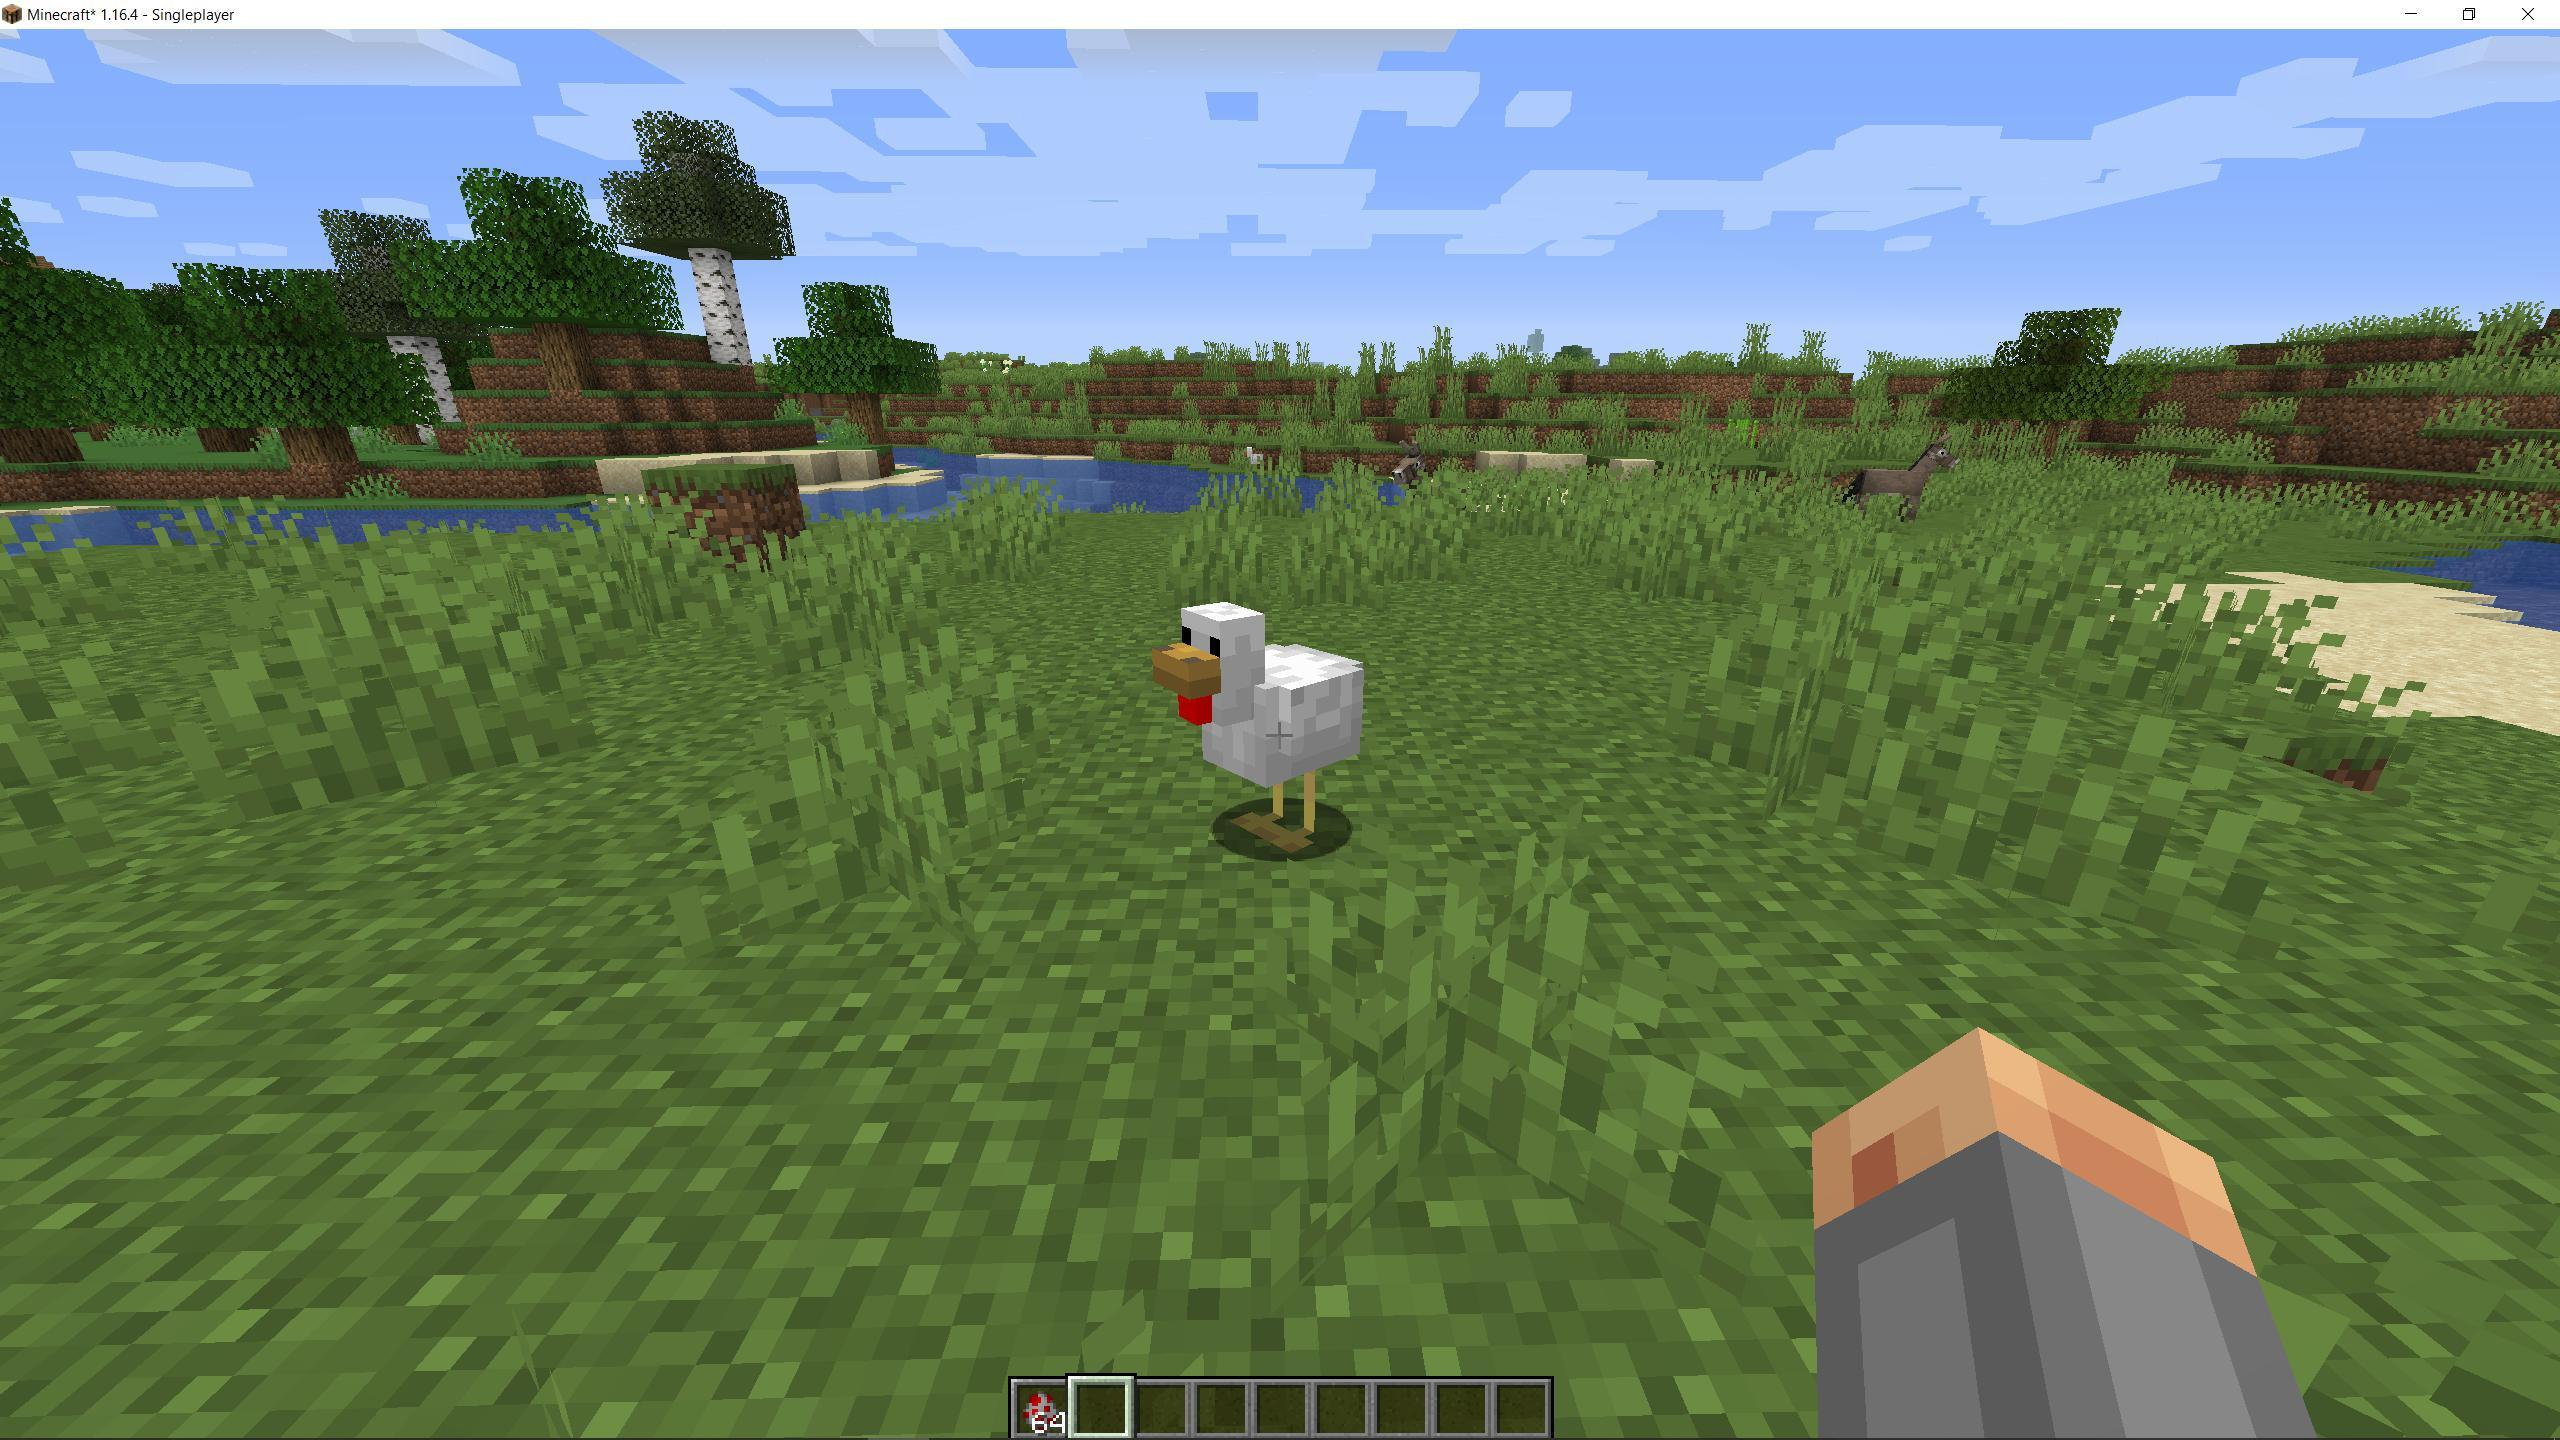chicken: (1138, 598, 1380, 870), (1241, 445, 1264, 469)
